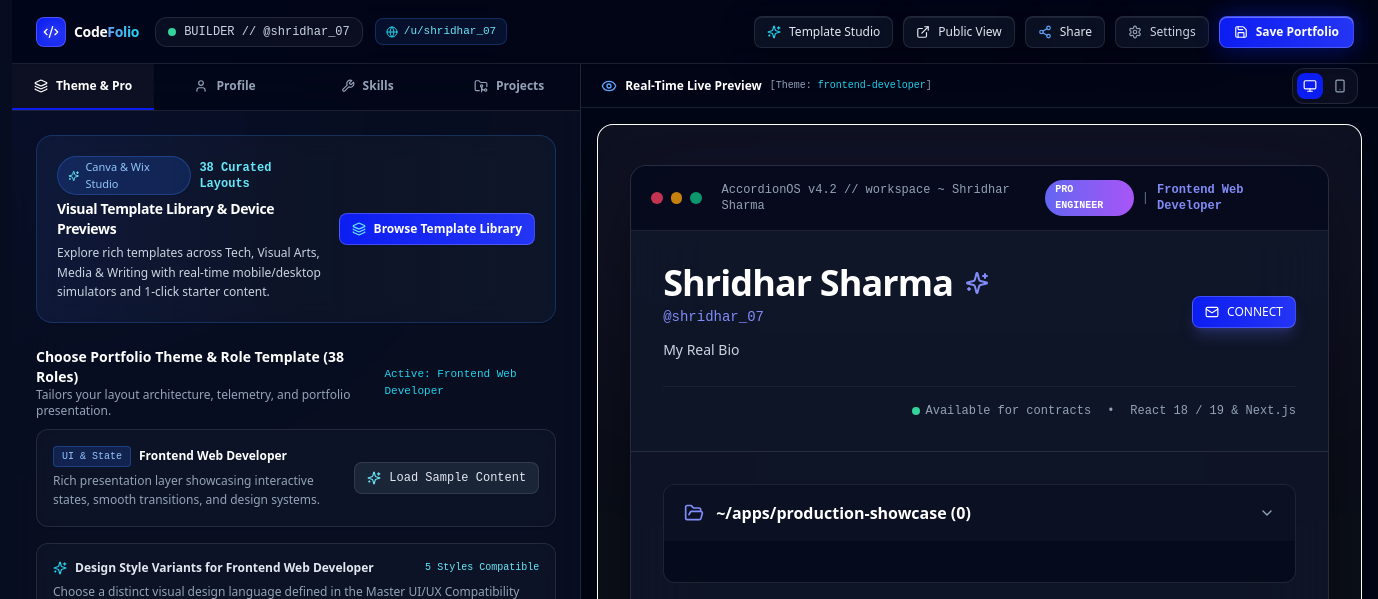
Test: ROLE TAXONOMY & TEMPLATE LAYOUT ENGINES TEST SUITE › 3. Split-Screen Builder Role Selector & Sample Data Pre-fill › should retain user real name and NEVER change to username handle when Load Sample Content is clicked
The width and height of the screenshot is (1378, 599).
Expected: the heading "Choose Portfolio Theme & Role Template (38 Roles)" is shown, [36, 346, 376, 386]
# Click "Load Sample Content"
Click the button "Load Sample Content" at (447, 478), box [354, 462, 539, 494]
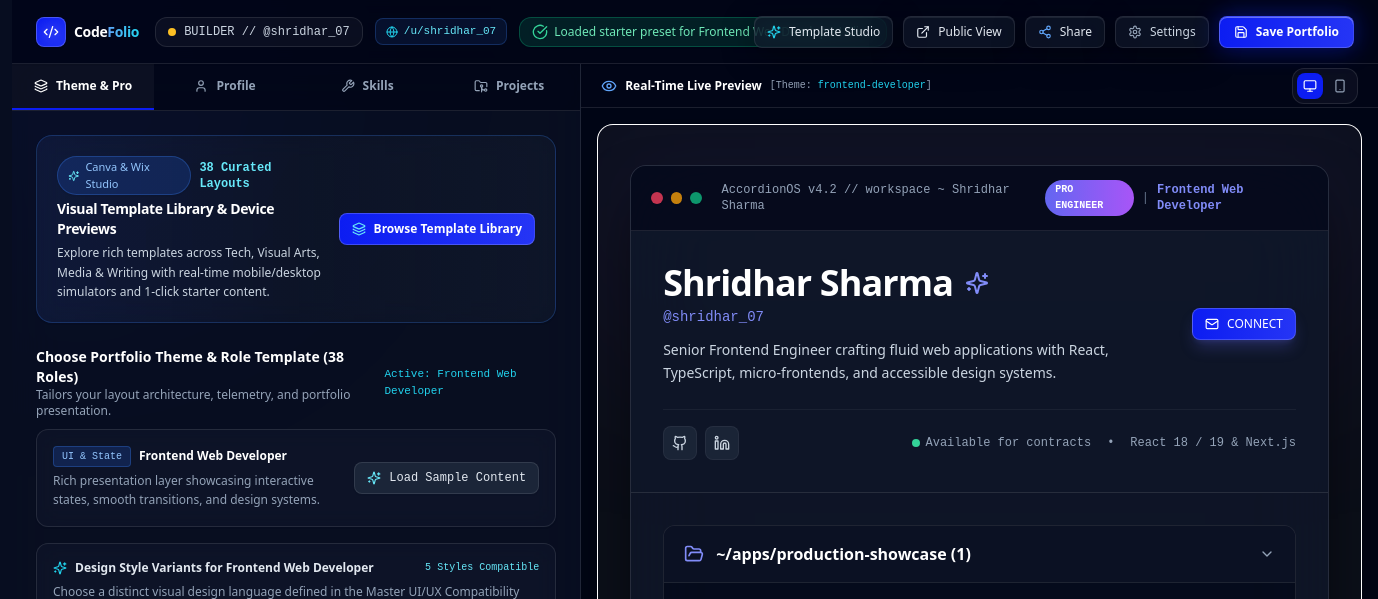
Expected: the text "Loaded starter preset for" is shown, [554, 22, 1025, 40]
# Check Profile Tab: Name must remain "Shridhar Sharma" and NOT become "shridhar_07"
Click the button "Profile" at (225, 87), box [154, 64, 296, 110]
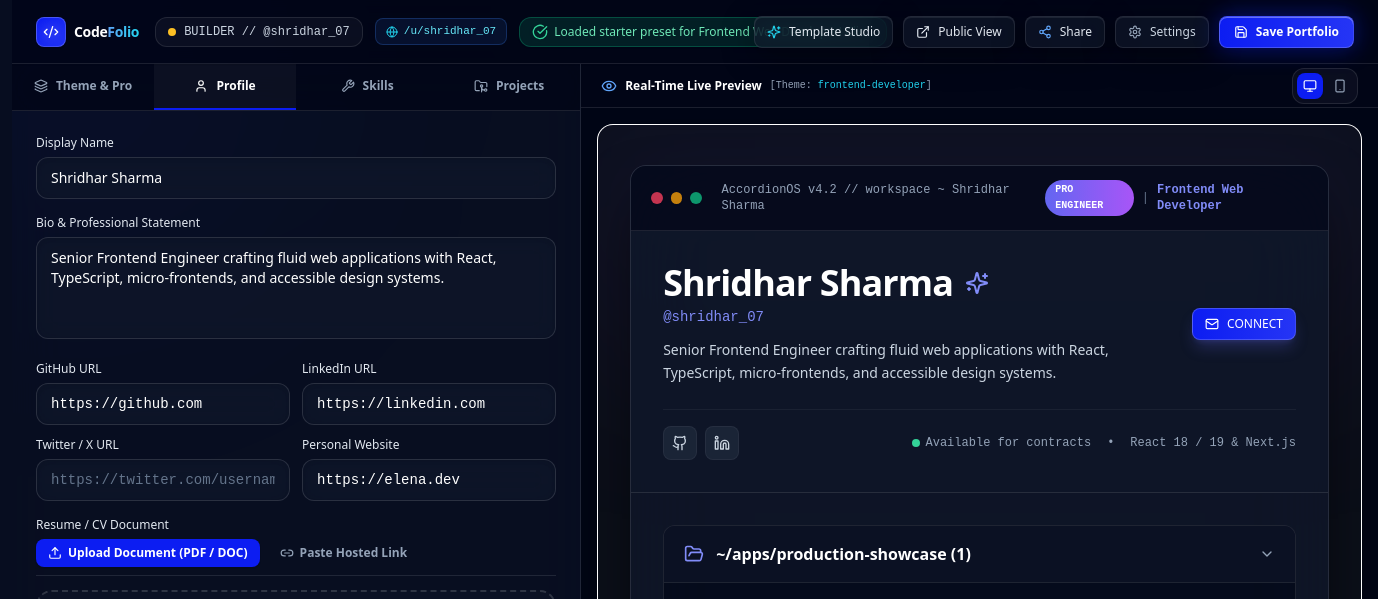
Expected: the field showing "Shridhar Sharma" below "Display Name" is shown, [36, 157, 556, 199]
